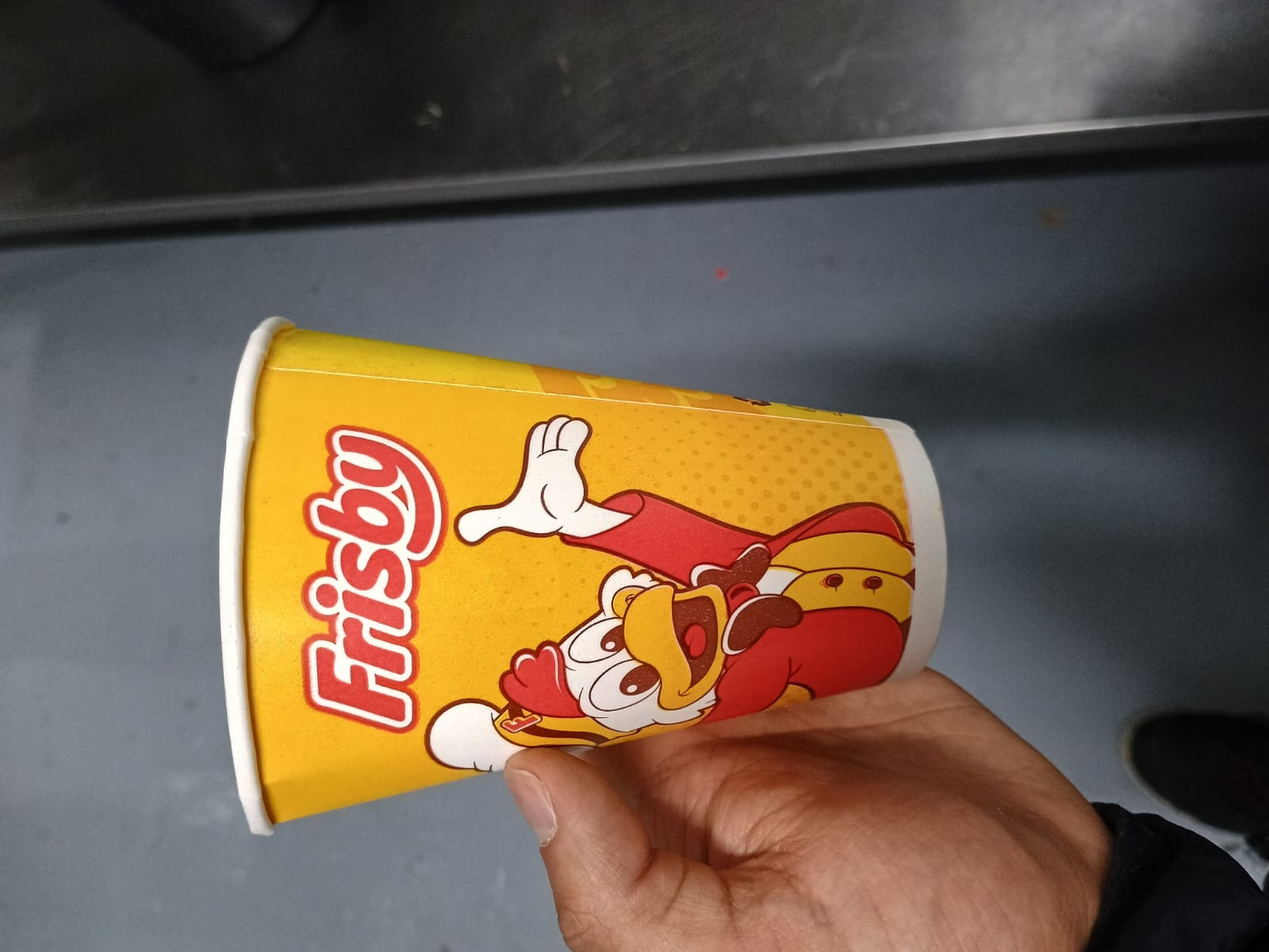Carton: (218, 315, 950, 840)
